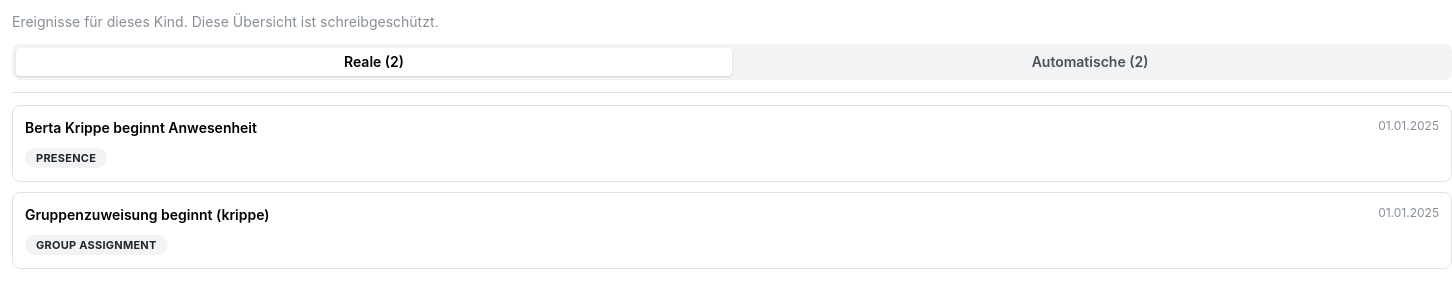
EventsView filters › shows the selected child event history split into read-only real and automatic tabs
This screenshot has width=1452, height=286.
Expected: the text "Gruppenzuweisung beginnt (krippe)" is shown, x1=25 y1=205 x2=270 y2=225
Expected: the text "Automatischer Gruppenwechsel: Krippe → Kita" is not shown
Step 1. Click the text "Automatische (2)" → (1090, 62), box x1=1032 y1=53 x2=1148 y2=70
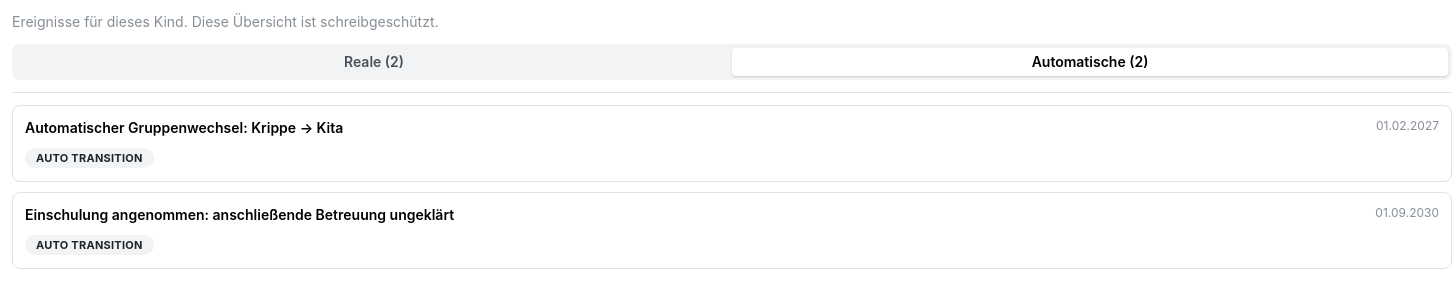
Expected: the text "Automatischer Gruppenwechsel: Krippe → Kita" is shown, x1=25 y1=118 x2=343 y2=138
Expected: the text "Gruppenzuweisung beginnt (krippe)" is gone
